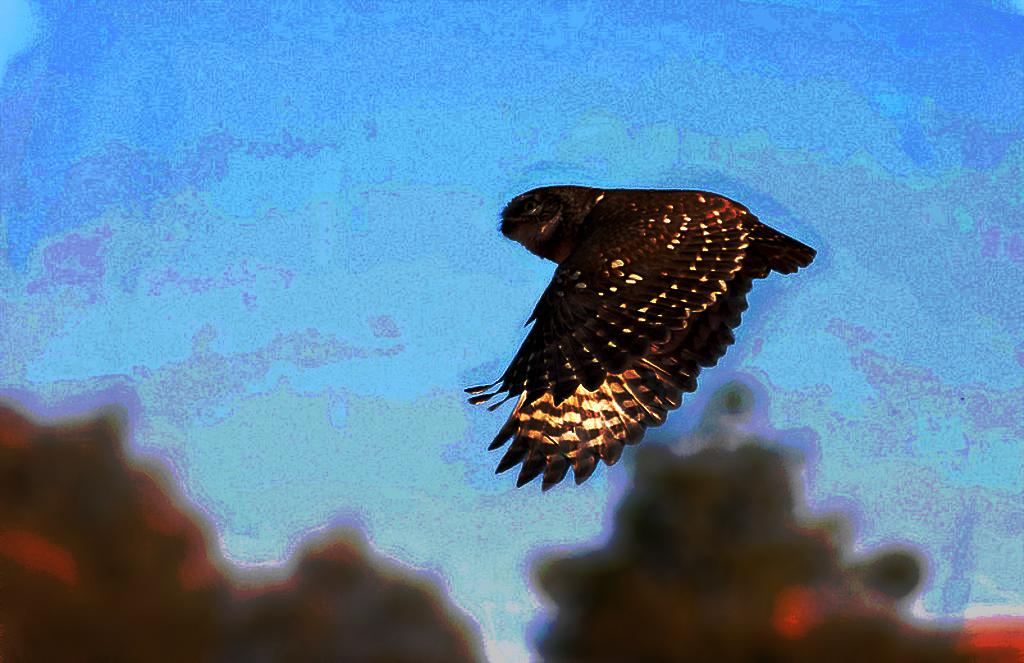Owl: (464, 180, 812, 500)
